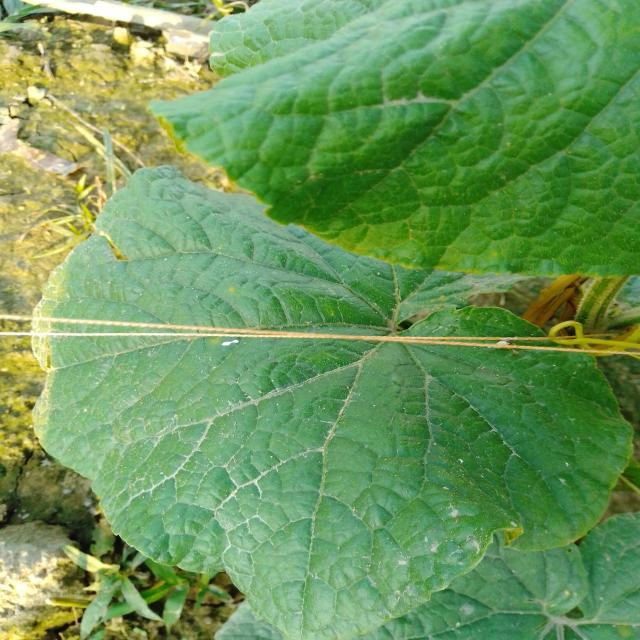cucumber_healthy: (23, 152, 638, 640), (143, 0, 640, 285), (397, 512, 640, 640)
